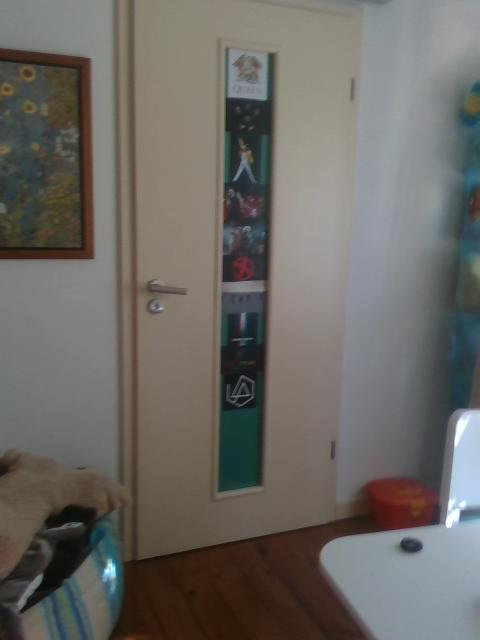door: (136, 1, 349, 564)
